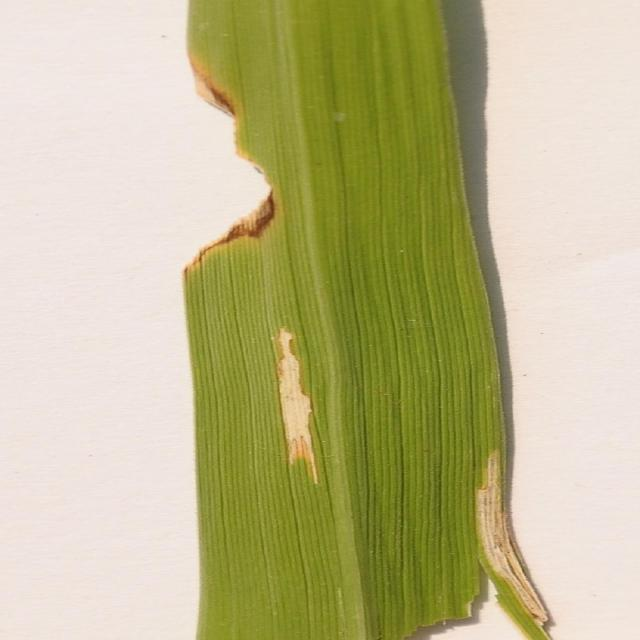Bacterial leaf blight: (144, 0, 560, 640)
